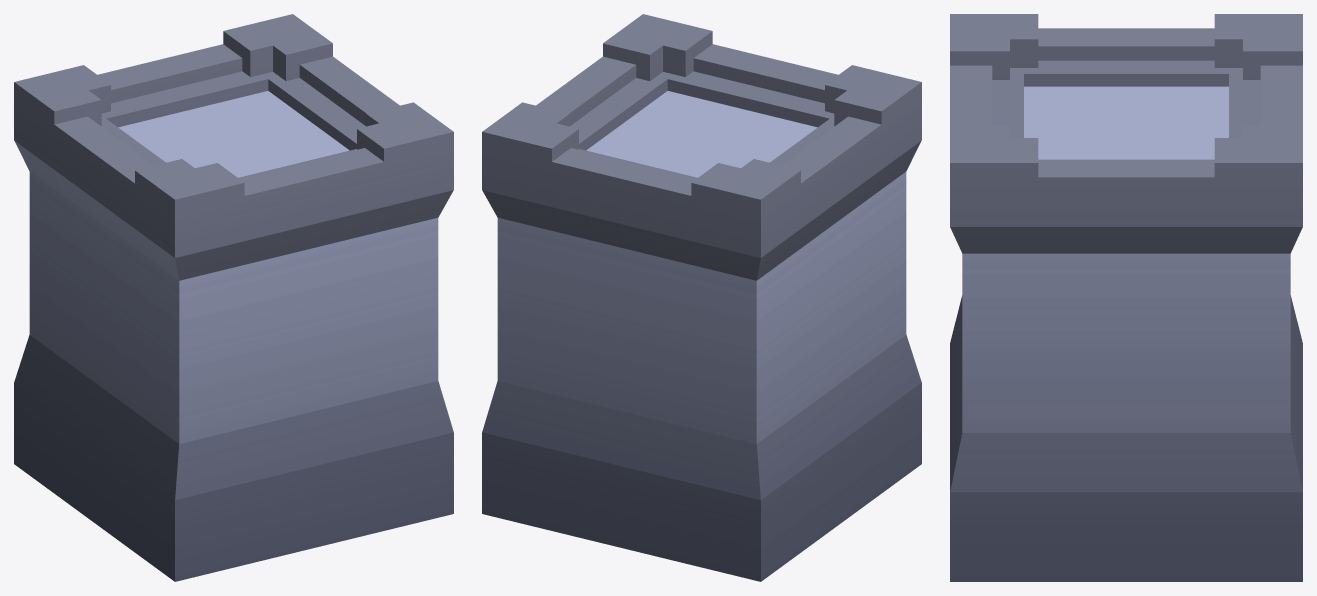
Rendered from tower-square.fbx.
The picture shows the model from 3 angles, left to right: view 1: azimuth 30°, elevation 25°; view 2: azimuth 150°, elevation 25°; view 3: azimuth 270°, elevation 25°; orthographic projection. The views are drawn at different scales.
Parts seen in each view (by area): view 1: tower-square; view 2: tower-square; view 3: tower-square.
Boxes of the visible parts, <box> form: tower-square: <box>14,14,453,581</box>; tower-square: <box>482,14,921,581</box>; tower-square: <box>950,14,1302,581</box>.
Bounding box in the file's own units: 1 × 1 × 1.31.
